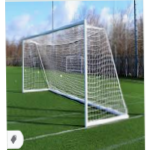goals: (19, 17, 131, 130)
